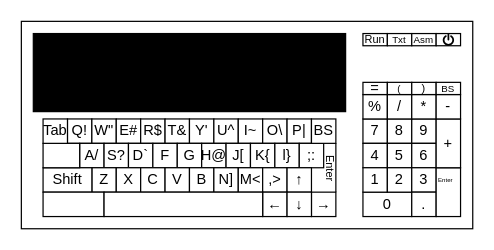
Some shapes in this 494 by 250 pixel diagram are drawn without their labels. Here are the shapes that lost their labels. From the top down, the centre of each, then its label:
point 61,155: Caps
point 73,204: カナ
